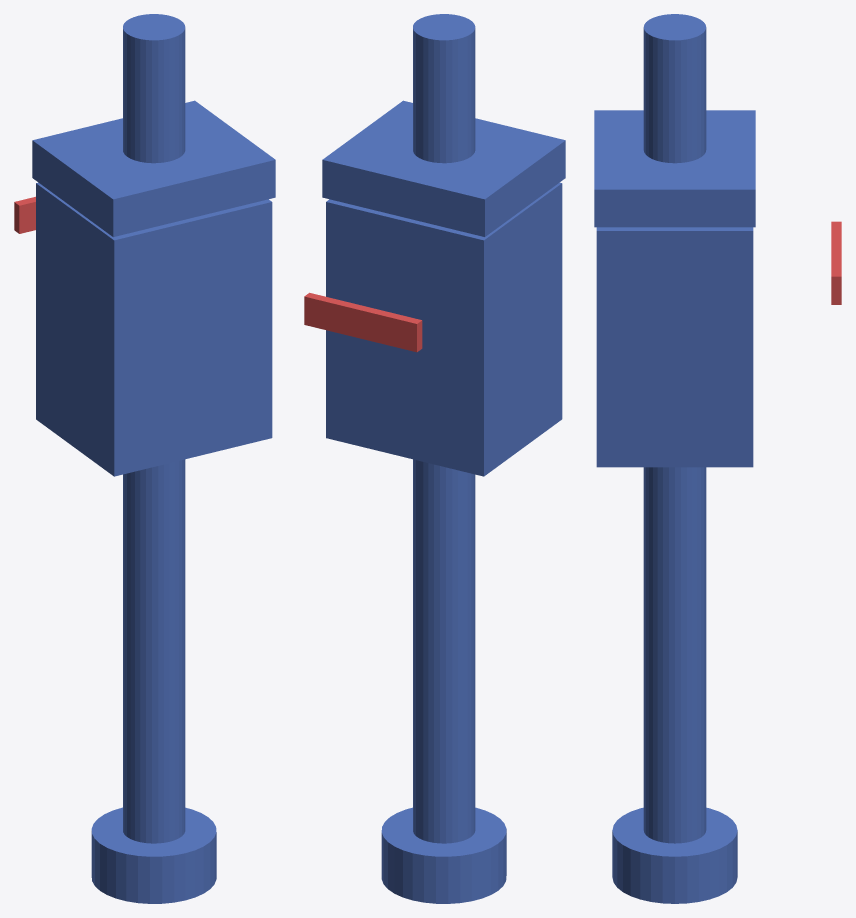
Rendered from prop_street_mailbox_lod0.gltf.
3 renders of one model, left to right at view 1: azimuth 30°, elevation 25°; view 2: azimuth 150°, elevation 25°; view 3: azimuth 270°, elevation 25°, orthographic.
Parts seen in each view (by area): view 1: prop_street_mailbox; view 2: prop_street_mailbox; view 3: prop_street_mailbox.
Boxes of the visible parts, x1,y1,x2,y2 form: prop_street_mailbox: (14,14,275,903); prop_street_mailbox: (304,14,565,903); prop_street_mailbox: (594,14,841,903).
Bounding box in the file's own units: 0.36 × 1.8 × 0.475.
